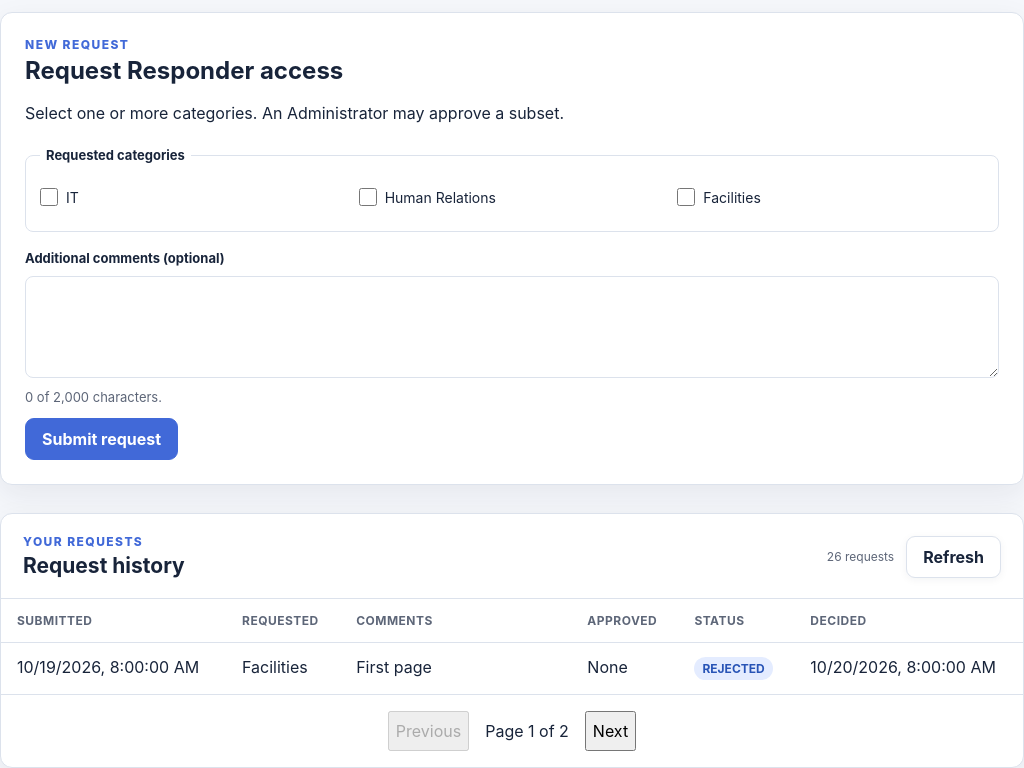
Test case: Reporter promotion requests › pages through retained history and renders comments as text
(page scrolled)
Step 1. Click the button "Next" → point(610, 731), box x1=585 y1=711 x2=636 y2=751
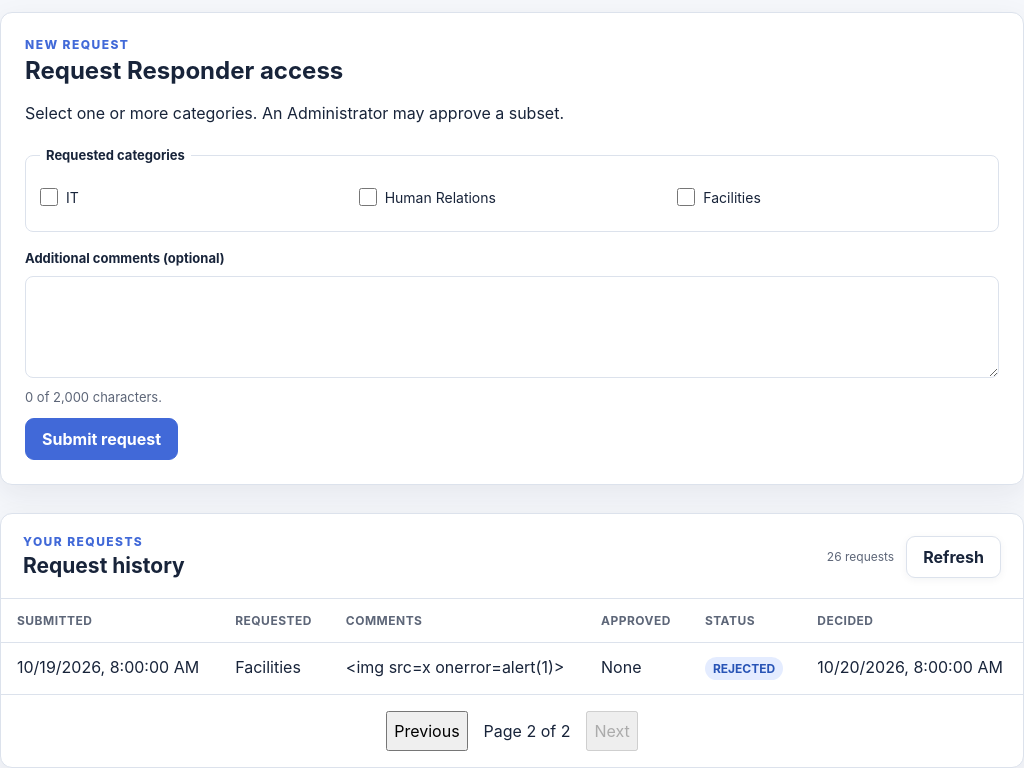
Expected: the text "<img src=x onerror=alert(1)>" is shown, x1=330 y1=642 x2=585 y2=694
